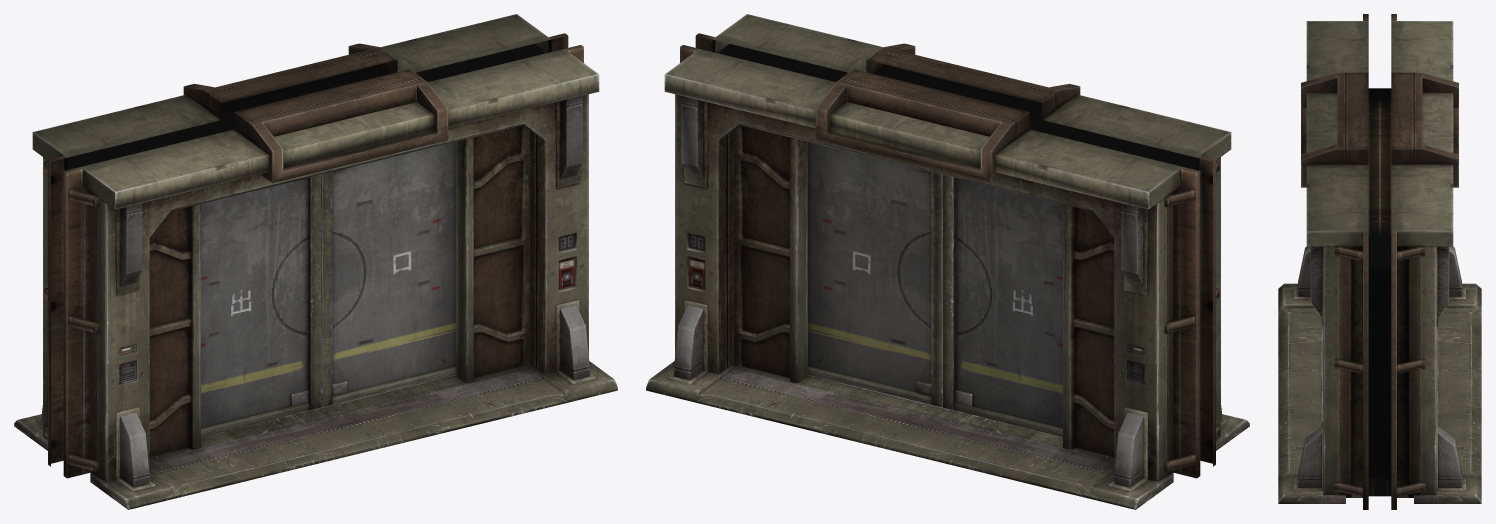
Rendered from exit_metal_large.dae.
3 renders of one model, left to right at view 1: azimuth 30°, elevation 25°; view 2: azimuth 150°, elevation 25°; view 3: azimuth 270°, elevation 25°, orthographic. The views are drawn at different scales.
Visible parts, largest first — view 1: exit_metal_large; view 2: exit_metal_large; view 3: exit_metal_large.
Part boxes in pixels (bbox=[...]): exit_metal_large: bbox=[14, 14, 617, 509]; exit_metal_large: bbox=[646, 14, 1249, 509]; exit_metal_large: bbox=[1278, 14, 1481, 509].
Bounding box in the file's own units: 588 × 350 × 225.
